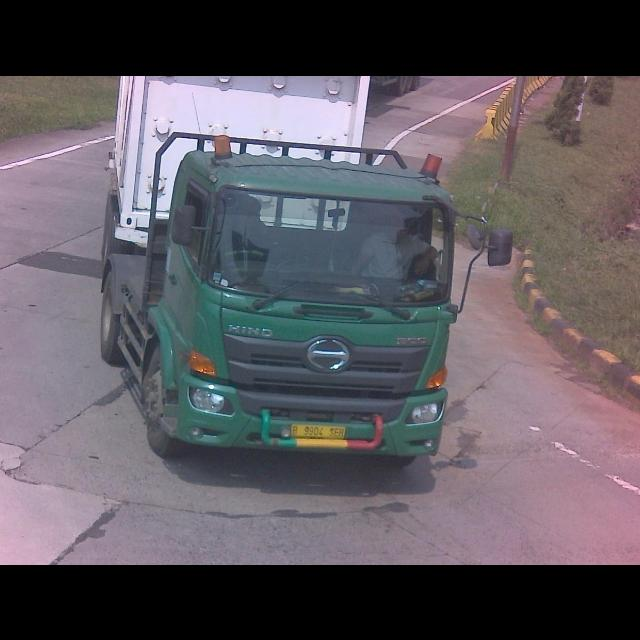plate: (290, 420, 346, 446)
